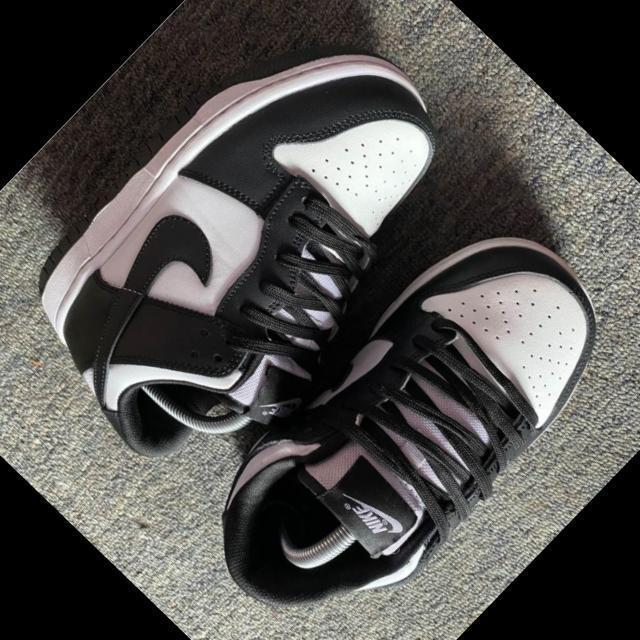nike original jordan 1: (0, 0, 520, 512), (159, 176, 640, 640)
